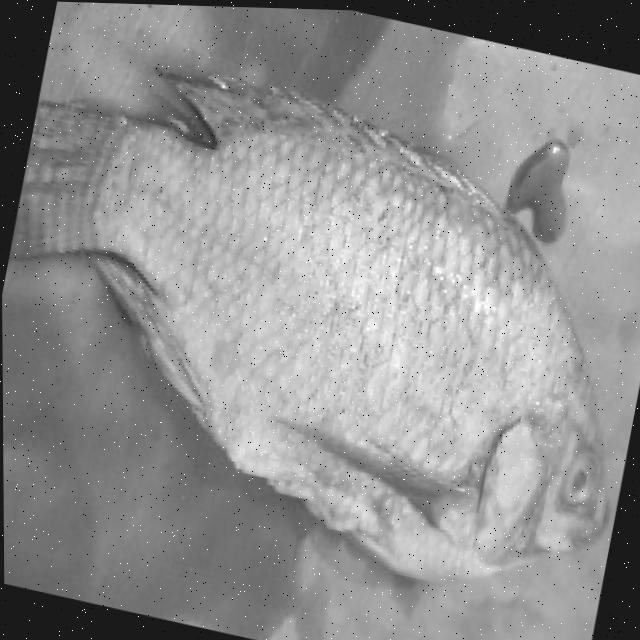Non-Fresh: (0, 24, 640, 619)
